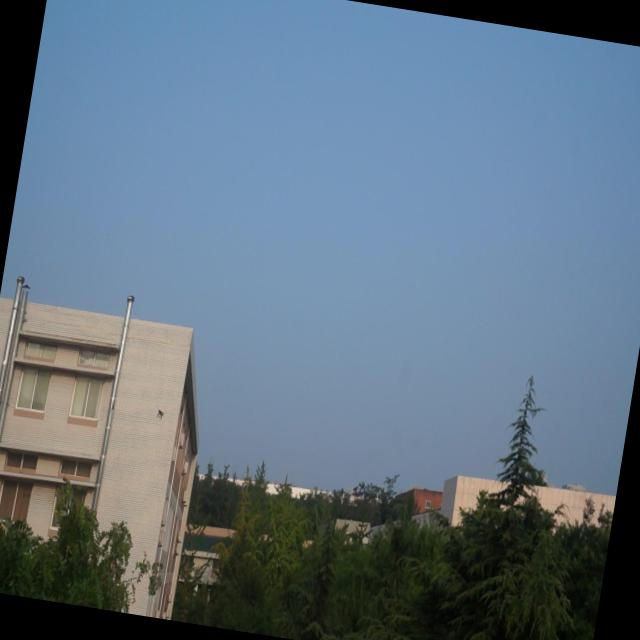drone: (154, 402, 166, 422)
